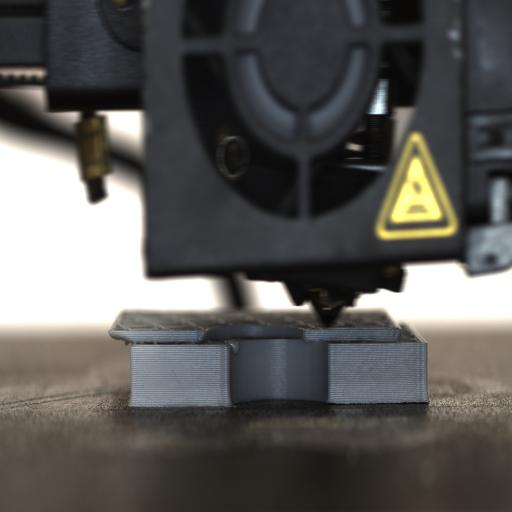layer_shift: (106, 332, 431, 356)
